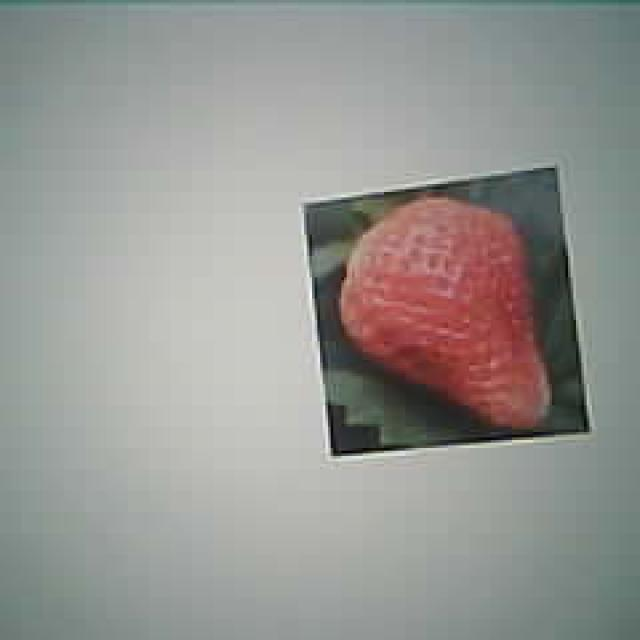ripe: (340, 198, 550, 428)
